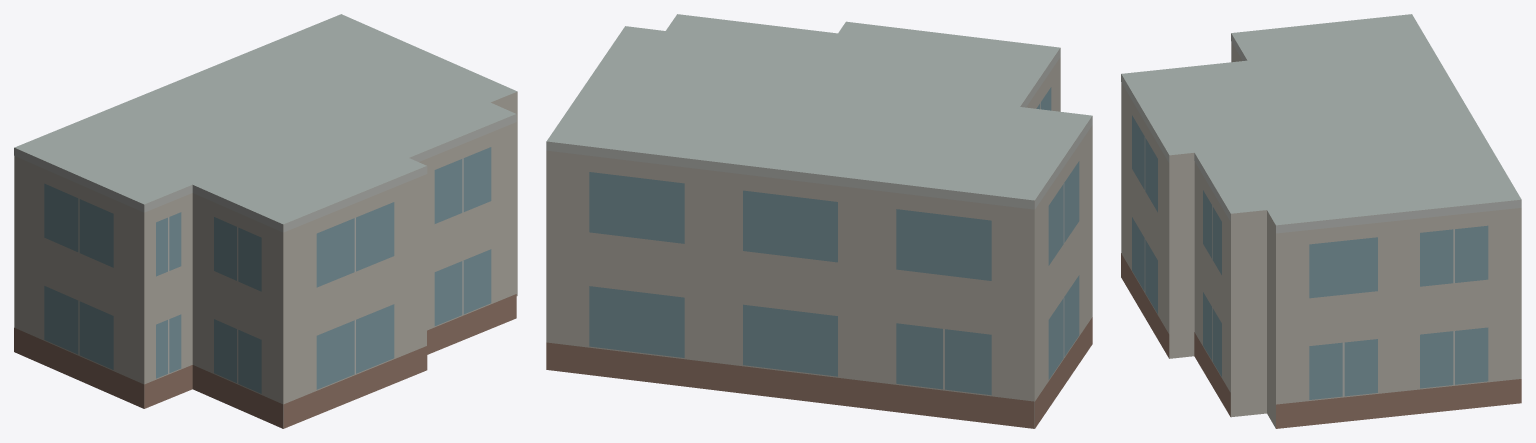
Rendered from survey-upis-32810149.glb.
3 views of the same model, side by side, from view 1: azimuth 30°, elevation 25°; view 2: azimuth 150°, elevation 25°; view 3: azimuth 270°, elevation 25° (orthographic). The views are drawn at different scales.
Parts seen in each view (by area): view 1: survey-upis-32810149.tmp; view 2: survey-upis-32810149.tmp; view 3: survey-upis-32810149.tmp.
Boxes of the visible parts, box(x1,y1,x2,y2) form: survey-upis-32810149.tmp: box(14, 14, 517, 428); survey-upis-32810149.tmp: box(546, 14, 1092, 428); survey-upis-32810149.tmp: box(1121, 14, 1521, 428).
Size of the model in its own units: 13.6 by 6.1 by 10.89.
